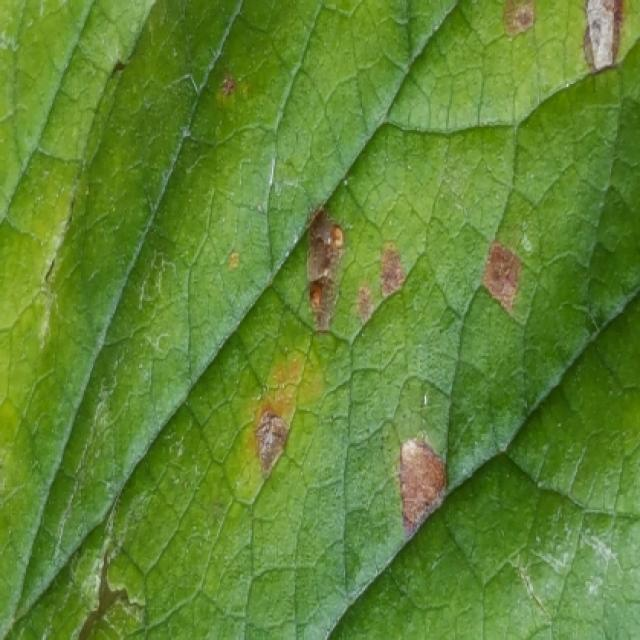Angular Leafspot: (199, 0, 638, 541)
